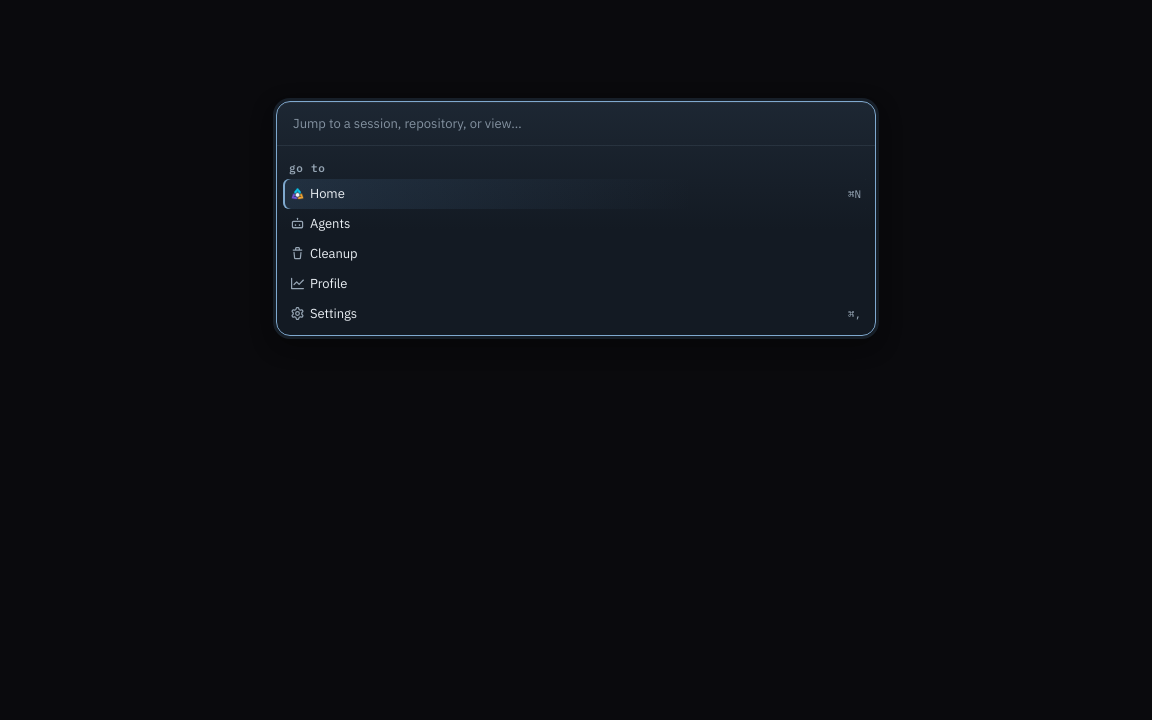
Test: CommandPalette › nothing-matches names the query and suggests what to try
Type "zzz" into the dropdown at [582, 124], box [289, 102, 875, 145]
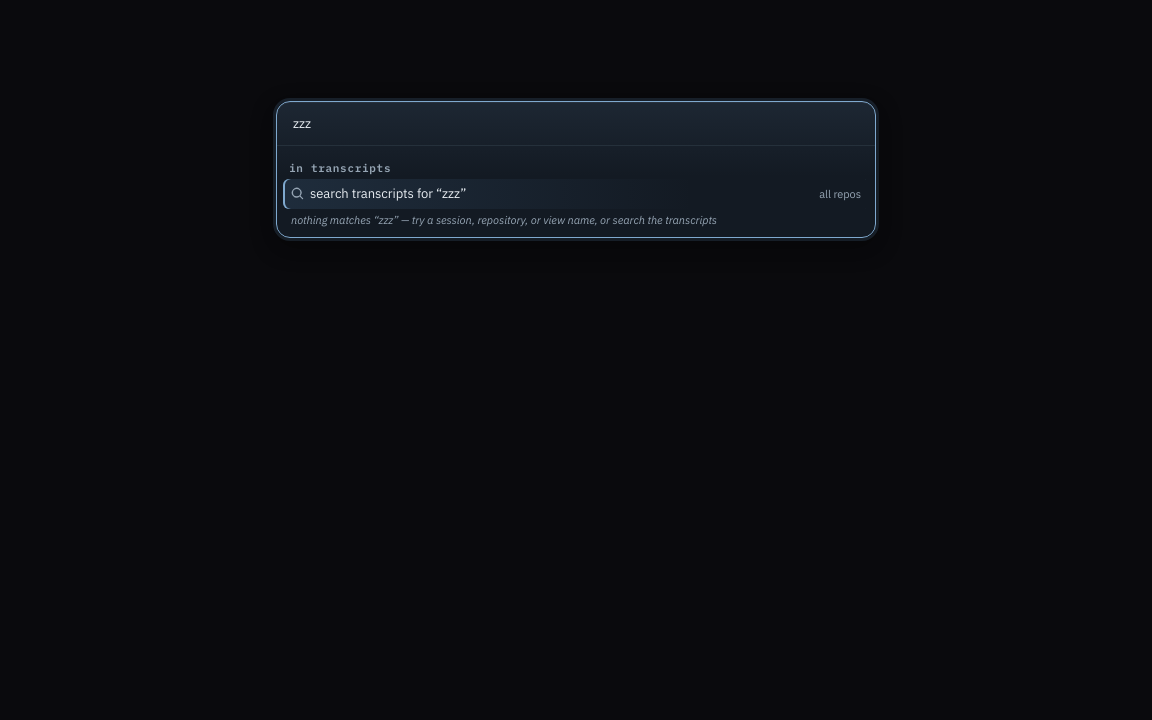
Result: the text "nothing matches “zzz”" is shown at [291, 213, 717, 227]
